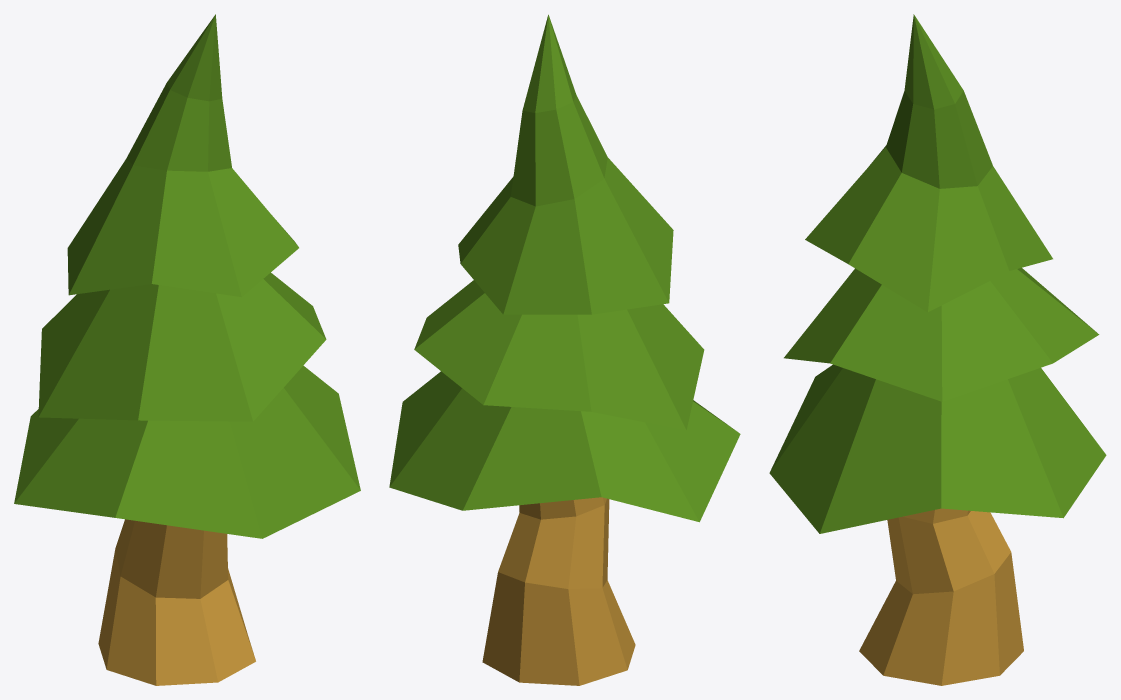
Rendered from tree.glb.
3 renders of one model, left to right at view 1: azimuth 30°, elevation 25°; view 2: azimuth 150°, elevation 25°; view 3: azimuth 270°, elevation 25°, orthographic. The views are drawn at different scales.
Visible parts, largest first — view 1: Circle.001; view 2: Circle.001; view 3: Circle.001.
Boxes of the visible parts, left/top/right/bottom form: Circle.001: left=14, top=14, right=360, bottom=685; Circle.001: left=389, top=14, right=740, bottom=685; Circle.001: left=769, top=14, right=1106, bottom=685.
Size of the model in its own units: 1.78 by 3.47 by 1.63.
